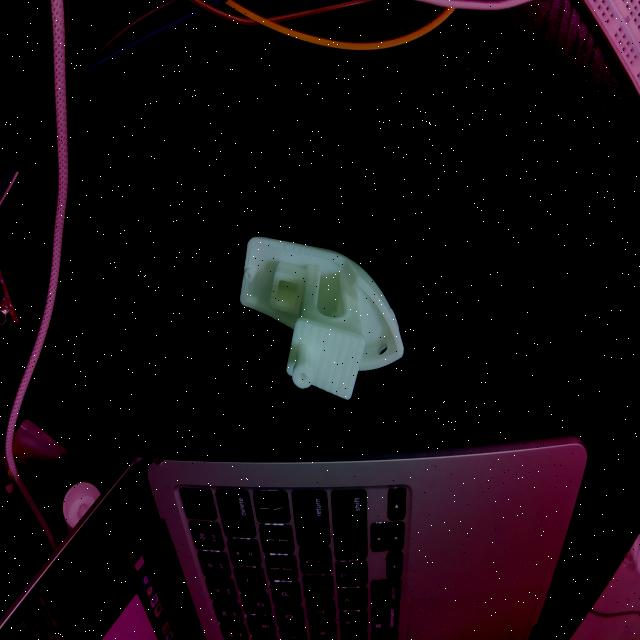ship: (240, 233, 404, 402)
